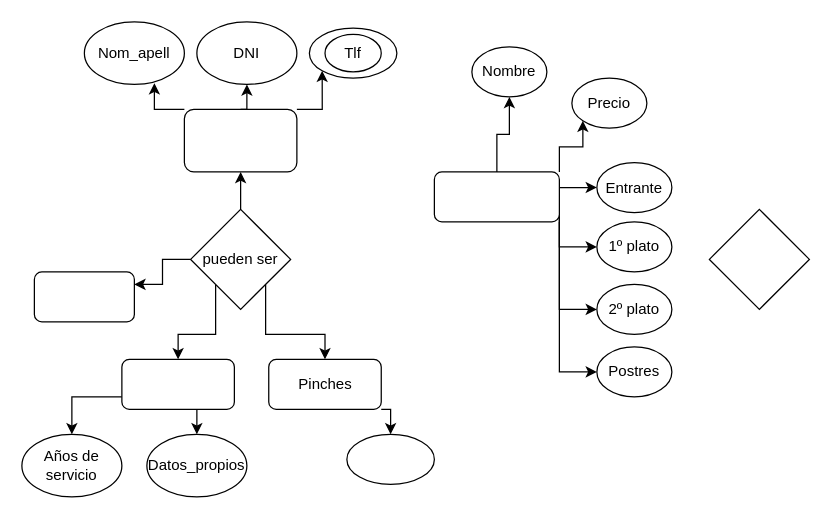
Some shapes in this 831 by 519 pixel diagram are drawn without their labels. Each missing label, with the centre of its shape:
"Cociner@s" goes at [177,383].
"Consta de" goes at [758,258].
"Empleado" goes at [240,140].
"Fecha de nacimiento" goes at [390,458].
"Otros" goes at [83,296].
"Platos" goes at [496,196].
